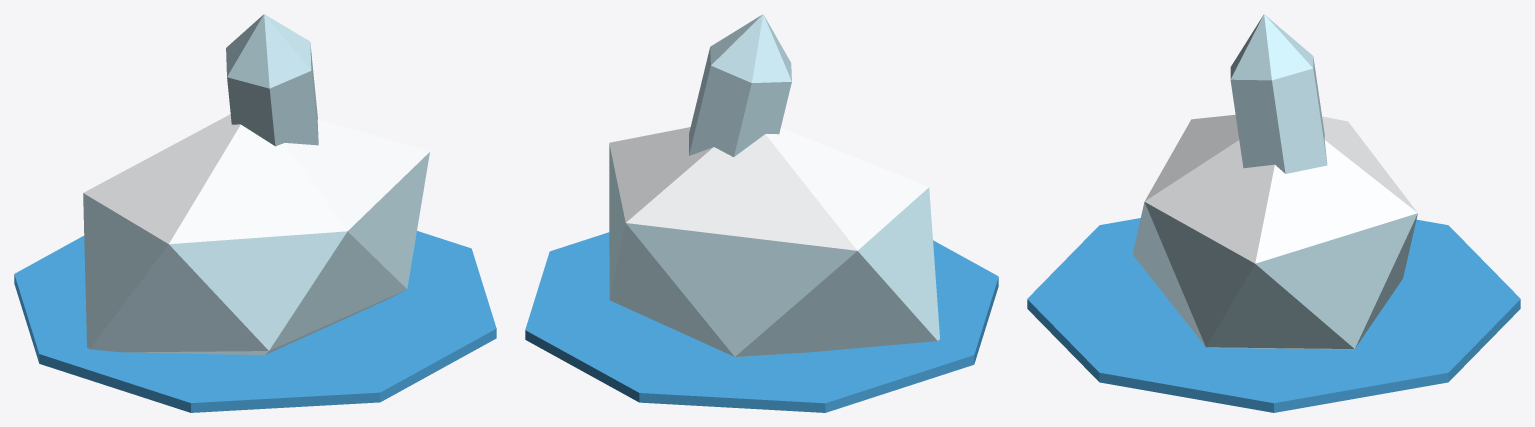
File: Iceberg.fbx
The picture shows the model from 3 angles, left to right: view 1: azimuth 30°, elevation 25°; view 2: azimuth 150°, elevation 25°; view 3: azimuth 270°, elevation 25°; orthographic projection.
Parts seen in each view (by area): view 1: Iceberg; view 2: Iceberg; view 3: Iceberg.
Part boxes in pixels (left/top/right/bottom): Iceberg: left=14, top=14, right=496, bottom=412; Iceberg: left=525, top=14, right=998, bottom=412; Iceberg: left=1027, top=14, right=1520, bottom=412.
Size of the model in its own units: 9.2 by 7.15 by 9.2.
Materials: 1 (1 with a texture image).
